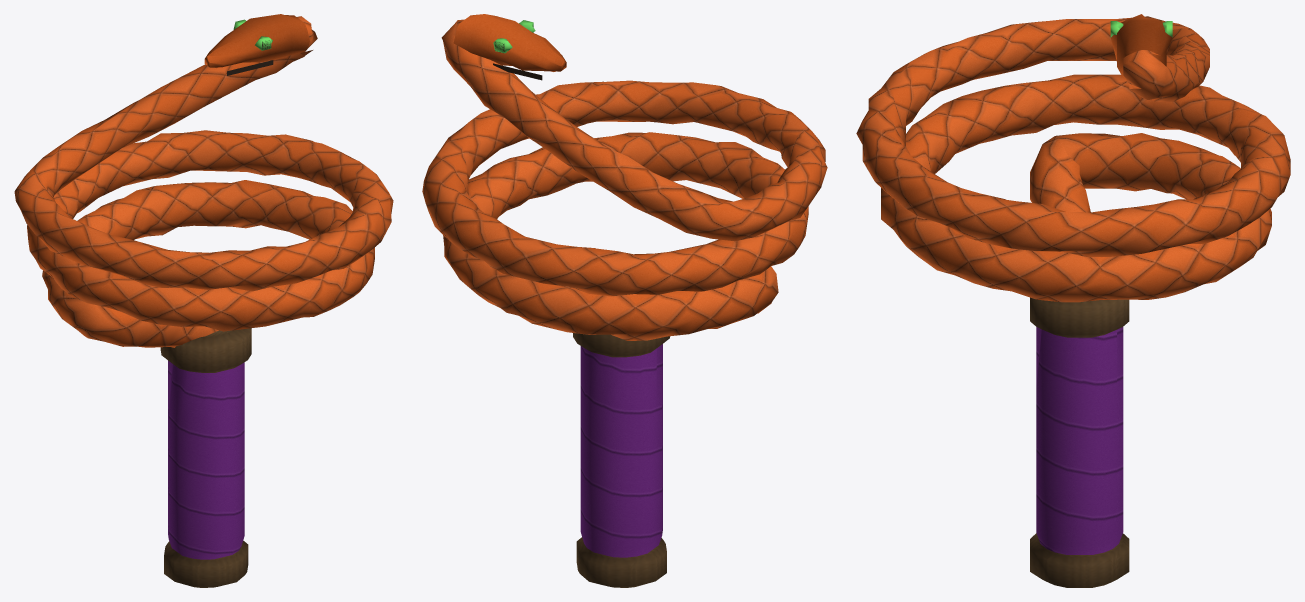
The model's file is whip.glb.
3 renders of one model, left to right at view 1: azimuth 30°, elevation 25°; view 2: azimuth 150°, elevation 25°; view 3: azimuth 270°, elevation 25°, orthographic. The views are drawn at different scales.
Visible parts, largest first — view 1: Approved coiled whip part 3, Approved coiled whip part 0, Approved coiled whip part 4, Approved coiled whip part 2, Approved coiled whip part 1; view 2: Approved coiled whip part 3, Approved coiled whip part 0, Approved coiled whip part 4, Approved coiled whip part 1, Approved coiled whip part 2; view 3: Approved coiled whip part 3, Approved coiled whip part 0, Approved coiled whip part 1, Approved coiled whip part 2, Approved coiled whip part 4.
Part boxes in pixels (x1,y1,x2,y2): Approved coiled whip part 3: [14, 16, 393, 347]; Approved coiled whip part 0: [168, 360, 244, 559]; Approved coiled whip part 4: [204, 14, 309, 68]; Approved coiled whip part 2: [160, 328, 251, 372]; Approved coiled whip part 1: [164, 541, 248, 587]; Approved coiled whip part 3: [422, 19, 827, 340]; Approved coiled whip part 0: [580, 344, 662, 557]; Approved coiled whip part 4: [453, 14, 566, 71]; Approved coiled whip part 1: [576, 537, 666, 587]; Approved coiled whip part 2: [573, 333, 669, 357]; Approved coiled whip part 3: [856, 16, 1290, 302]; Approved coiled whip part 0: [1036, 327, 1123, 554]; Approved coiled whip part 1: [1030, 533, 1129, 587]; Approved coiled whip part 2: [1030, 297, 1129, 337]; Approved coiled whip part 4: [1111, 14, 1172, 82].
Size of the model in its own units: 21.3 by 32.1 by 21.
6 materials, 4 textured.
